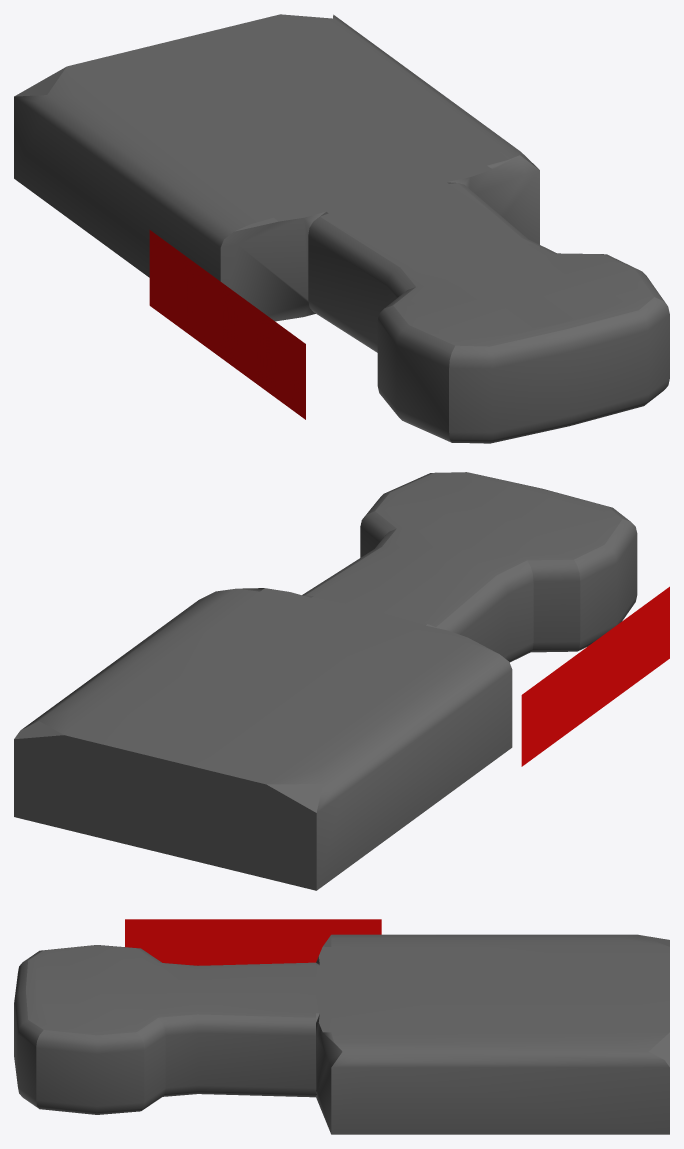
3 renders of one model, top to bottom at view 1: azimuth 30°, elevation 25°; view 2: azimuth 150°, elevation 25°; view 3: azimuth 270°, elevation 25°, orthographic. The views are drawn at different scales.
Visible parts, largest first — view 1: 拉链_锯齿003; view 2: 拉链_锯齿003; view 3: 拉链_锯齿003.
Part boxes in pixels (x1,y1,x2,y2): 拉链_锯齿003: (14, 14, 669, 443); 拉链_锯齿003: (14, 472, 669, 890); 拉链_锯齿003: (14, 919, 669, 1134).
Bounding box in the file's own units: 73.68 × 19.45 × 142.
